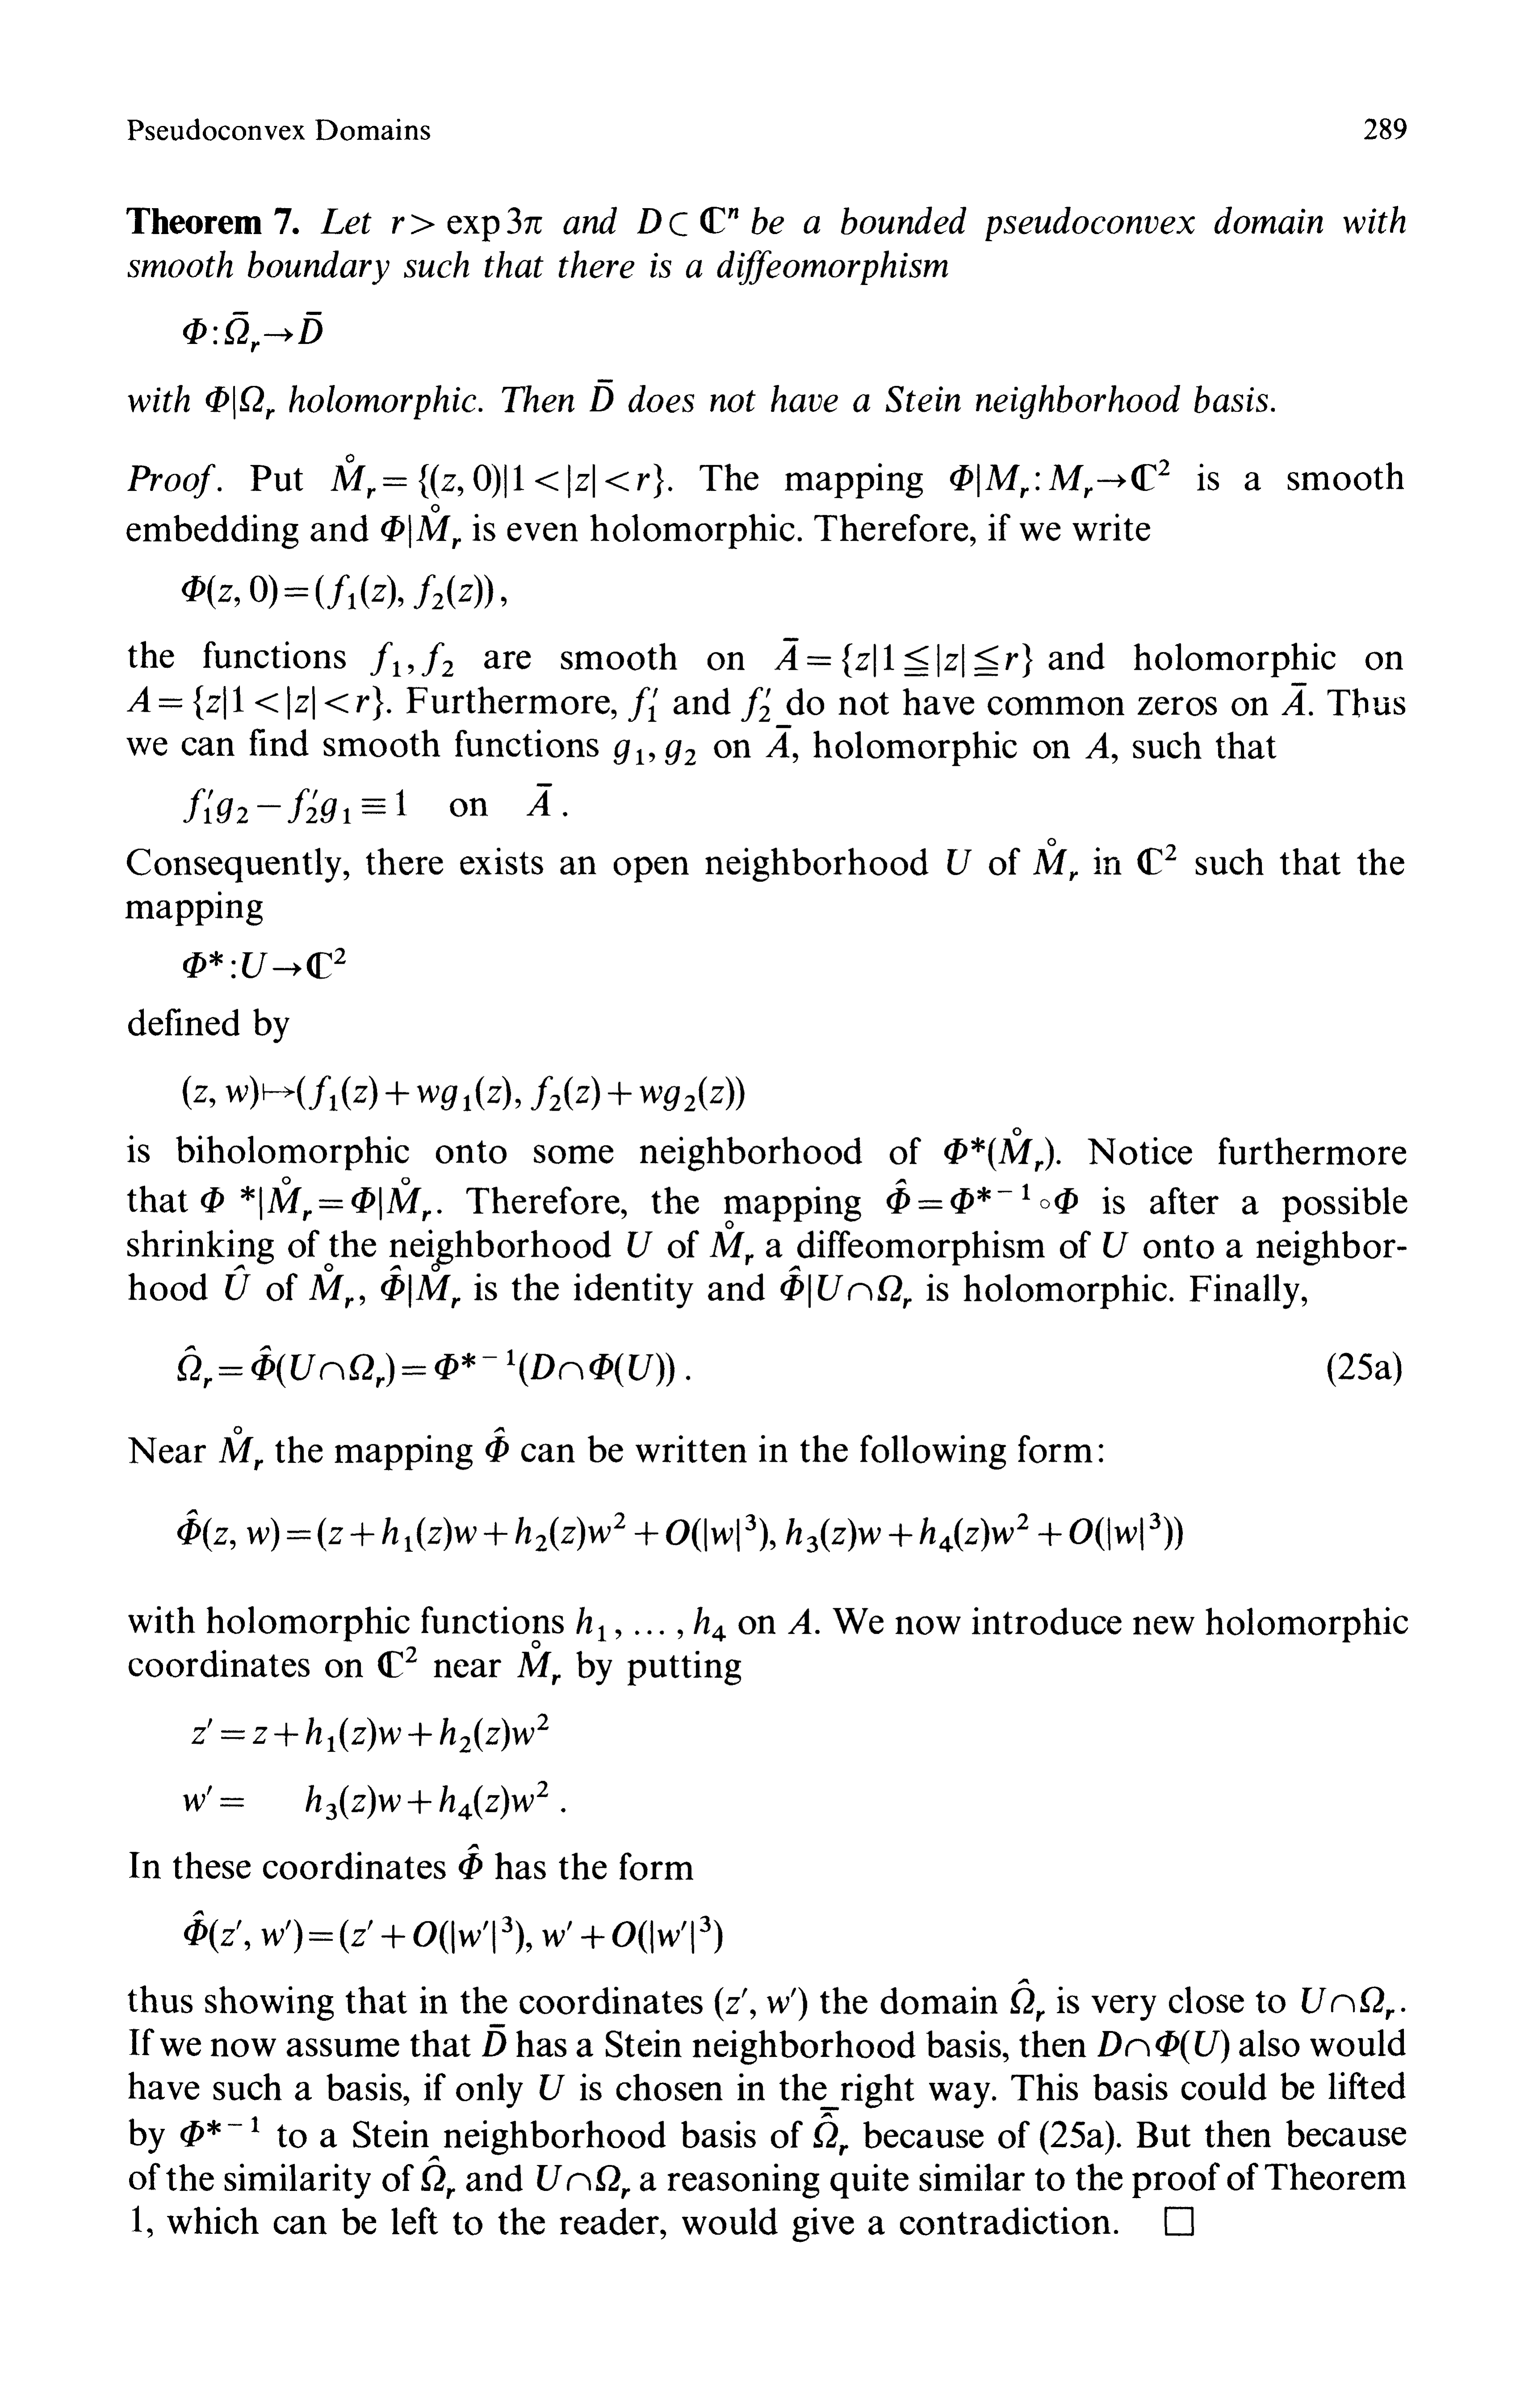maths: (177, 1509, 1182, 1552), (184, 1911, 723, 1953), (177, 1346, 674, 1388), (182, 1076, 744, 1111), (330, 455, 663, 498), (191, 1713, 547, 1752), (182, 574, 493, 609), (202, 1176, 430, 1222), (775, 637, 1031, 677), (305, 1781, 547, 1820), (126, 684, 382, 720), (951, 460, 1170, 497), (182, 788, 407, 823), (888, 1178, 1077, 1213), (182, 311, 323, 353), (781, 1265, 912, 1309), (381, 1239, 460, 1308), (182, 948, 346, 979), (393, 207, 542, 240), (577, 1608, 724, 1641), (944, 1127, 1054, 1171), (1098, 2029, 1230, 2064), (381, 504, 460, 548), (714, 1987, 807, 2020), (1301, 1987, 1394, 2020), (537, 2166, 630, 2199), (637, 207, 738, 235), (181, 2117, 260, 2146), (205, 386, 274, 419), (219, 1425, 263, 1471), (1033, 837, 1077, 881), (309, 1264, 353, 1308), (710, 1220, 752, 1265), (517, 1641, 560, 1685), (814, 2106, 847, 2155), (182, 1785, 244, 1811), (1010, 1978, 1044, 2022), (421, 2155, 454, 2199), (377, 1646, 417, 1678), (766, 725, 798, 762), (1137, 844, 1175, 874), (421, 642, 453, 676), (628, 686, 658, 721), (740, 686, 770, 721), (370, 642, 400, 676), (225, 1265, 251, 1301), (458, 1845, 482, 1878), (486, 1427, 509, 1462), (614, 739, 644, 765), (589, 379, 614, 411), (1282, 683, 1307, 714), (526, 783, 551, 814), (482, 2024, 505, 2057), (665, 741, 695, 765), (628, 1232, 652, 1258), (1103, 1232, 1128, 1258), (947, 849, 972, 874), (540, 2075, 565, 2099), (1086, 732, 1109, 758), (788, 1609, 810, 1634)
